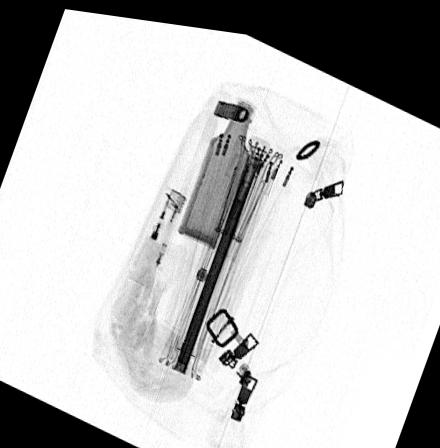Lighter: (125, 181, 186, 285)
